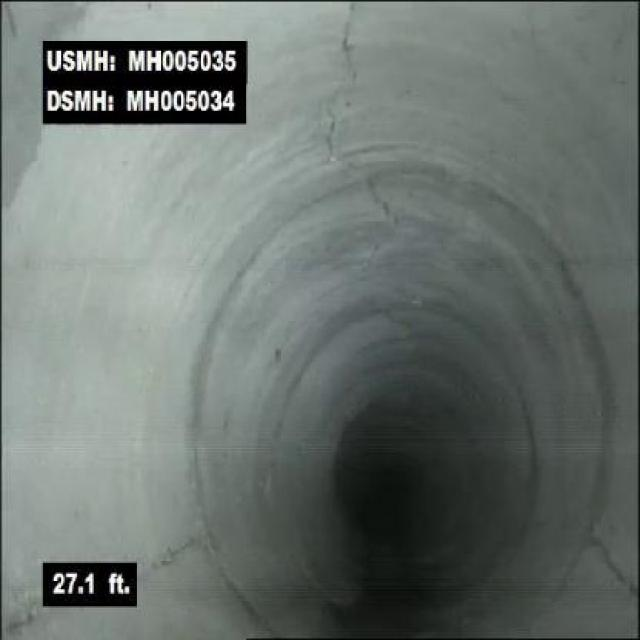Crack: (318, 3, 368, 160), (591, 532, 638, 617), (140, 528, 203, 588), (354, 160, 404, 228), (5, 601, 40, 634)
